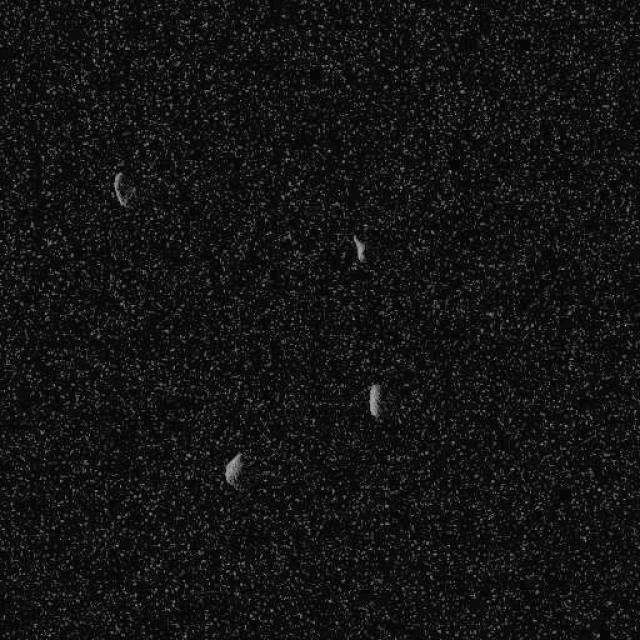D2: (111, 170, 135, 208), (224, 450, 246, 490), (366, 382, 382, 418), (350, 232, 366, 262)
